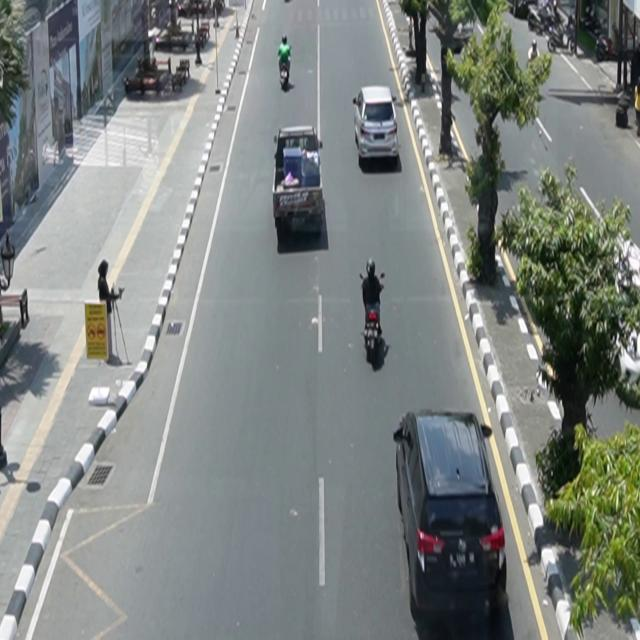car: (394, 409, 508, 628), (273, 125, 325, 238), (353, 86, 400, 162)
